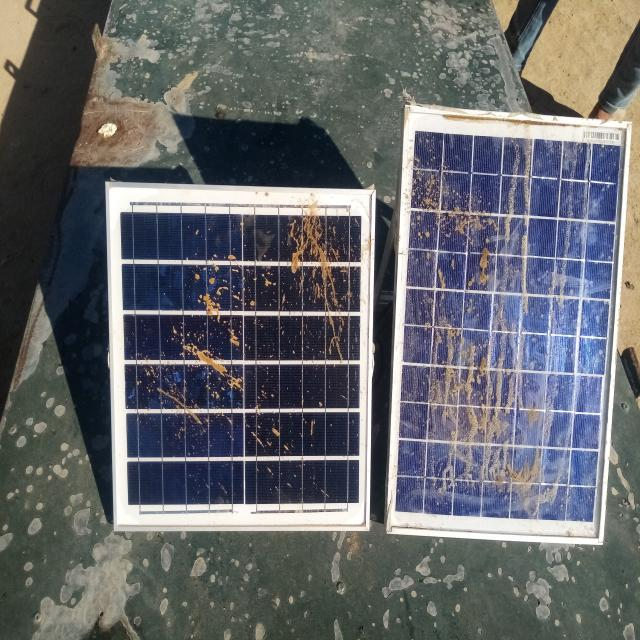faulty: (386, 107, 632, 544), (108, 183, 372, 529)
